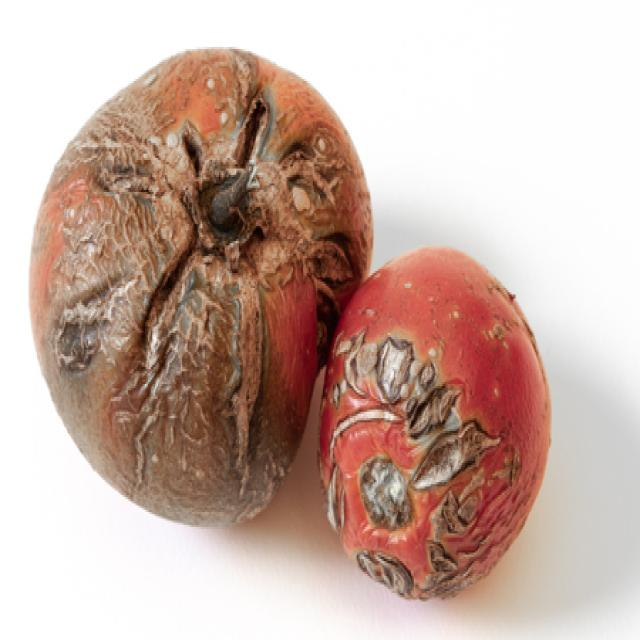overripe tomato: (12, 11, 568, 622)
